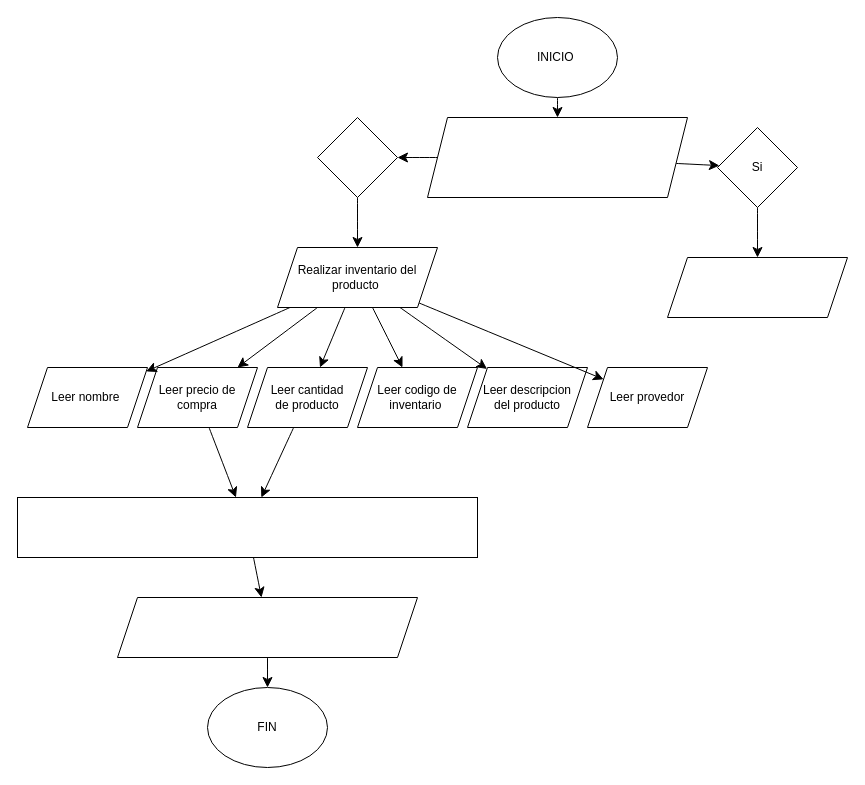
This 865x785 diagram has some shape labels left out. The box of each missing label's shape, as (x1, y1, x2, y2) in pixels:
Aun existen unidades en el inventario: (666, 256, 848, 318)
COSTO TOTAL DE ADQUISICION DEL PRODUCTO= PRECIO_DE_COMPRA* CANTIDAD_DE_PRODUCTO: (16, 496, 478, 558)
MOSTRAR COSTO TOTAL DE LA COMPRA: (116, 596, 418, 658)
No: (316, 116, 398, 198)
Por favor ingrese el nombre del producto para validar disponibilidad: (426, 116, 688, 198)
